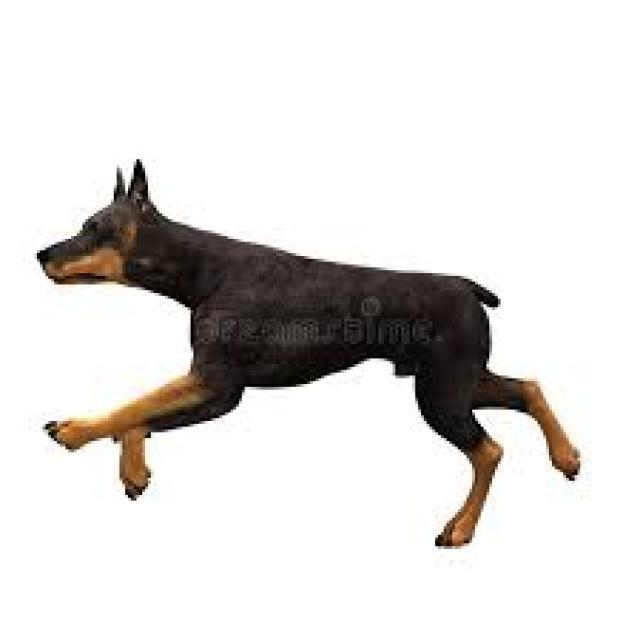Dog: (30, 155, 584, 556)
